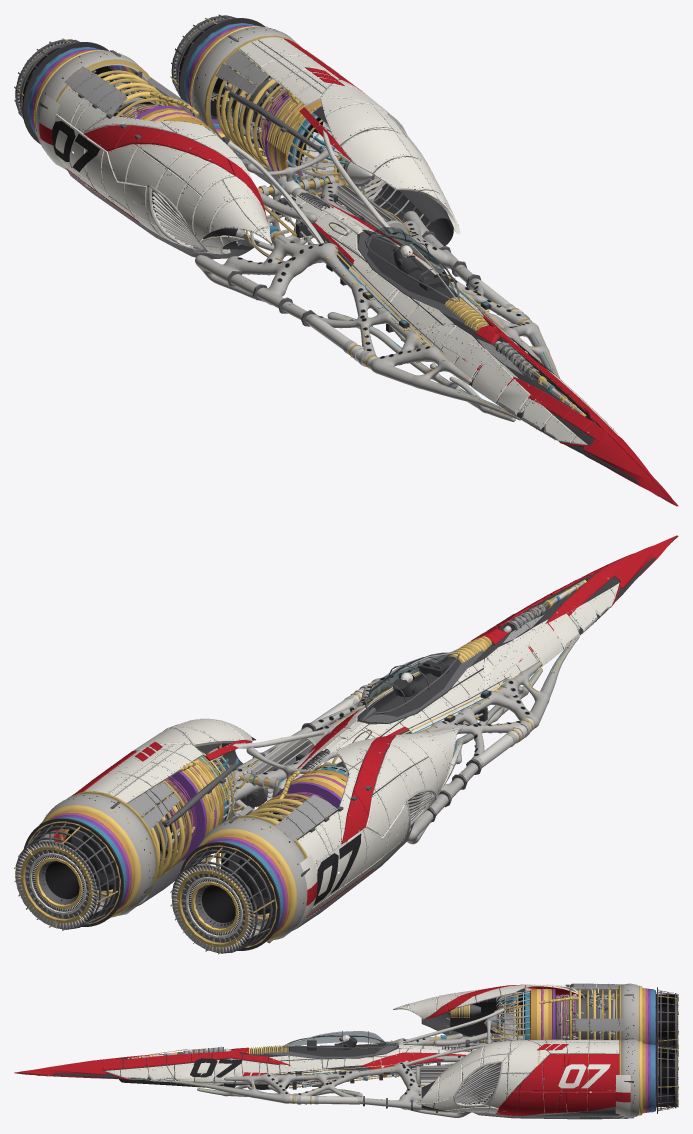
File: racer07_vitrine.glb
3 renders of one model, top to bottom at view 1: azimuth 30°, elevation 25°; view 2: azimuth 150°, elevation 25°; view 3: azimuth 270°, elevation 25°, orthographic. The views are drawn at different scales.
Parts seen in each view (by area): view 1: X_M_RC_BLANC, X_M_RC_TITANE, X_M_KV_GUNMETAL, X_M_TK_GRAPHITE, X_M_RC_ROUGE, X_M_RC_LAITON, X_M_RC_CHROME, X_M_RC_OR, X_M_RC_GRIS, X_M_RC_BLEU, X_M_KV_STRUCT_BLACK, X_M_RC_VIOLET (+5 smaller); view 2: X_M_RC_BLANC, X_M_RC_TITANE, X_M_KV_GUNMETAL, X_M_TK_GRAPHITE, X_M_RC_OR, X_M_RC_LAITON, X_M_RC_ROUGE, X_M_RC_GRIS, X_M_KV_STRUCT_BLACK, X_M_RC_CHROME, X_M_RC_VIOLET, X_M_RC_BRONZE (+4 smaller); view 3: X_M_RC_BLANC, X_M_RC_TITANE, X_M_RC_ROUGE, X_M_KV_GUNMETAL, X_M_TK_GRAPHITE, X_M_KV_STRUCT_BLACK, X_M_RC_LAITON, X_M_RC_CHROME, X_M_RC_OR, X_M_RC_GRIS, X_M_RC_BLEU, X_M_RC_BRONZE (+6 smaller).
Part boxes in pixels (box(x1,y1,x2,y2)): X_M_RC_BLANC: box(39, 37, 619, 444); X_M_RC_TITANE: box(16, 17, 658, 496); X_M_KV_GUNMETAL: box(14, 14, 541, 380); X_M_TK_GRAPHITE: box(22, 18, 674, 504); X_M_RC_ROUGE: box(39, 38, 678, 506); X_M_RC_LAITON: box(14, 18, 577, 417); X_M_RC_CHROME: box(114, 78, 571, 406); X_M_RC_OR: box(27, 25, 586, 416); X_M_RC_GRIS: box(59, 40, 594, 432); X_M_RC_BLEU: box(28, 23, 555, 406); X_M_KV_STRUCT_BLACK: box(17, 19, 528, 358); X_M_RC_VIOLET: box(27, 23, 302, 179); X_M_RC_BLANC: box(84, 583, 619, 929); X_M_RC_TITANE: box(15, 582, 583, 952); X_M_KV_GUNMETAL: box(14, 602, 549, 953); X_M_TK_GRAPHITE: box(24, 538, 675, 950); X_M_RC_OR: box(15, 579, 586, 951); X_M_RC_LAITON: box(14, 584, 579, 954); X_M_RC_ROUGE: box(54, 535, 678, 917); X_M_RC_GRIS: box(25, 578, 608, 942); X_M_KV_STRUCT_BLACK: box(37, 666, 529, 940); X_M_RC_CHROME: box(29, 586, 576, 938); X_M_RC_VIOLET: box(52, 762, 347, 932); X_M_RC_BRONZE: box(48, 759, 355, 941); X_M_RC_BLANC: box(105, 984, 630, 1115); X_M_RC_TITANE: box(37, 983, 678, 1117); X_M_RC_ROUGE: box(14, 984, 630, 1115); X_M_KV_GUNMETAL: box(177, 984, 678, 1119); X_M_TK_GRAPHITE: box(17, 987, 657, 1113); X_M_KV_STRUCT_BLACK: box(267, 993, 677, 1107); X_M_RC_LAITON: box(135, 984, 678, 1116); X_M_RC_CHROME: box(142, 994, 600, 1104); X_M_RC_OR: box(127, 985, 678, 1115); X_M_RC_GRIS: box(128, 983, 628, 1118); X_M_RC_BLEU: box(164, 989, 655, 1112); X_M_RC_BRONZE: box(530, 983, 645, 1117).
Size of the model in its own units: 9.9 by 4.72 by 34.59.
